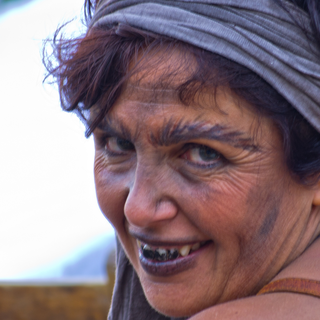eye: (183, 142, 231, 167), (97, 131, 138, 158)
